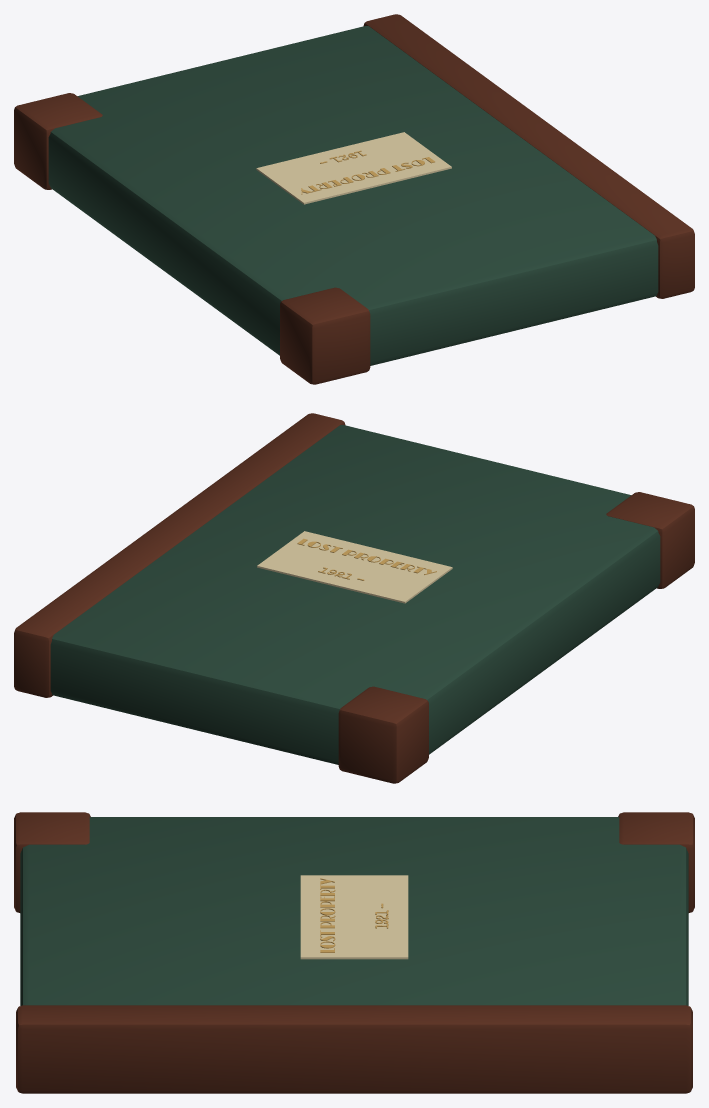
File: Ledger.fbx
3 renders of one model, top to bottom at view 1: azimuth 30°, elevation 25°; view 2: azimuth 150°, elevation 25°; view 3: azimuth 270°, elevation 25°, orthographic. The views are drawn at different scales.
Parts seen in each view (by area): view 1: Ledger; view 2: Ledger; view 3: Ledger.
Boxes of the visible parts, left/top/right/bottom form: Ledger: left=14, top=14, right=694, bottom=384; Ledger: left=14, top=413, right=694, bottom=783; Ledger: left=14, top=812, right=694, bottom=1093.
Bounding box in the file's own units: 0.235 × 0.0374 × 0.316.
